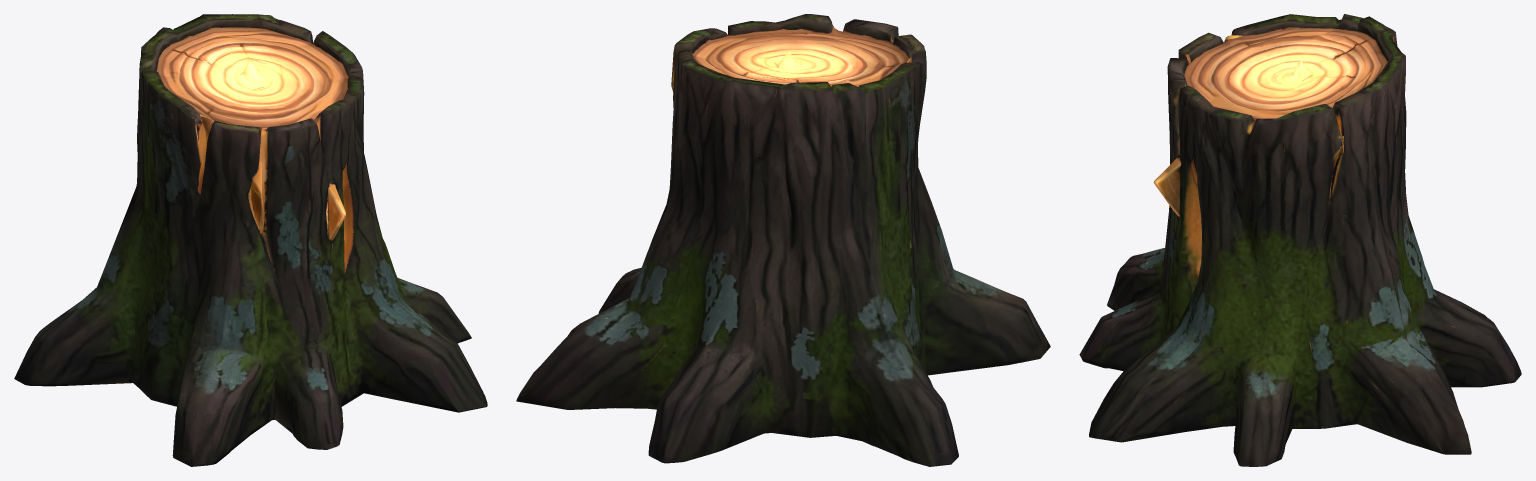
Rendered from mesh_heartwood_stump_a.glb.
3 renders of one model, left to right at view 1: azimuth 30°, elevation 25°; view 2: azimuth 150°, elevation 25°; view 3: azimuth 270°, elevation 25°, orthographic. The views are drawn at different scales.
Parts seen in each view (by area): view 1: mesh_heartwood_stump_a__Mesh_0; view 2: mesh_heartwood_stump_a__Mesh_0; view 3: mesh_heartwood_stump_a__Mesh_0.
Boxes of the visible parts, bbox=[...] form: mesh_heartwood_stump_a__Mesh_0: bbox=[14, 14, 487, 466]; mesh_heartwood_stump_a__Mesh_0: bbox=[516, 14, 1050, 466]; mesh_heartwood_stump_a__Mesh_0: bbox=[1079, 14, 1521, 466].
Bounding box in the file's own units: 7 × 5.39 × 6.76.
Materials: 1 (1 with a texture image).
